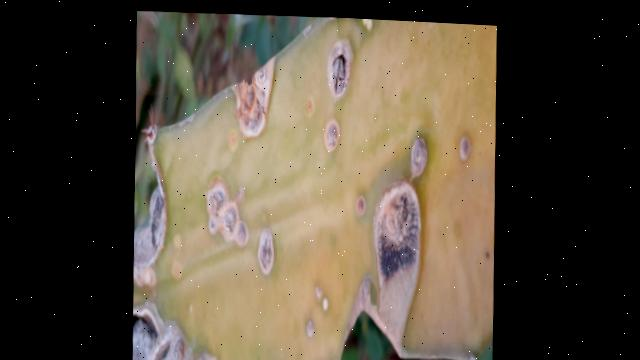stemcanker: (324, 40, 356, 106), (253, 223, 279, 279), (317, 115, 344, 158), (409, 129, 430, 181), (348, 186, 373, 225), (458, 133, 476, 169)
